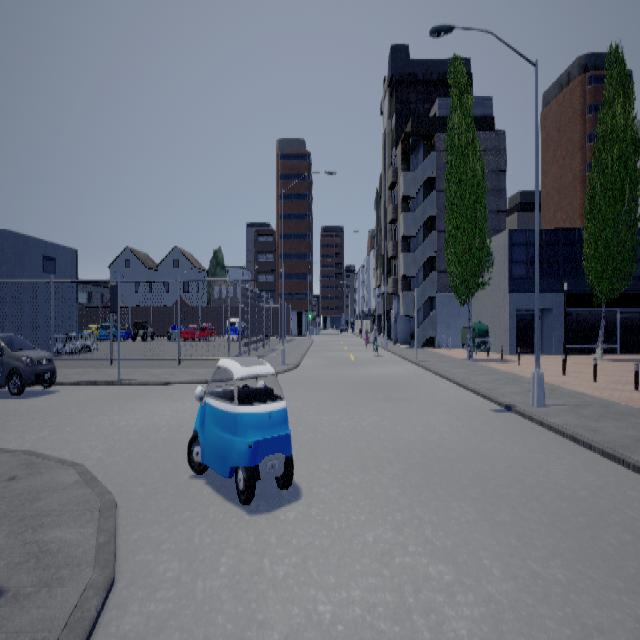bike: (368, 323, 382, 354)
vehicle: (188, 356, 295, 504), (1, 332, 58, 394)
